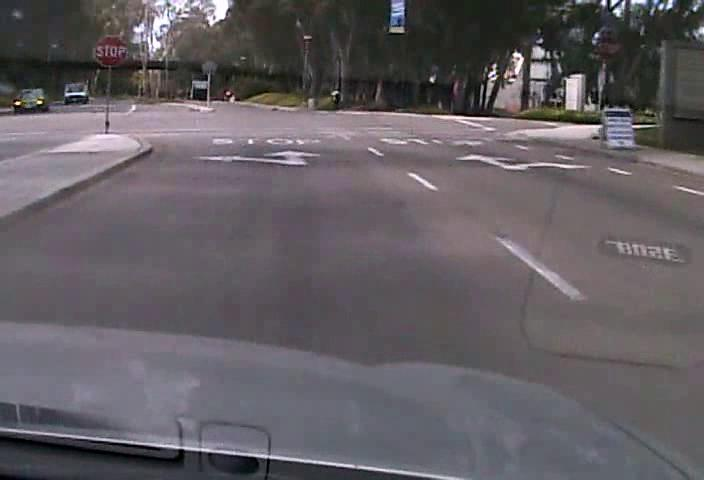stop: (93, 34, 128, 68)
